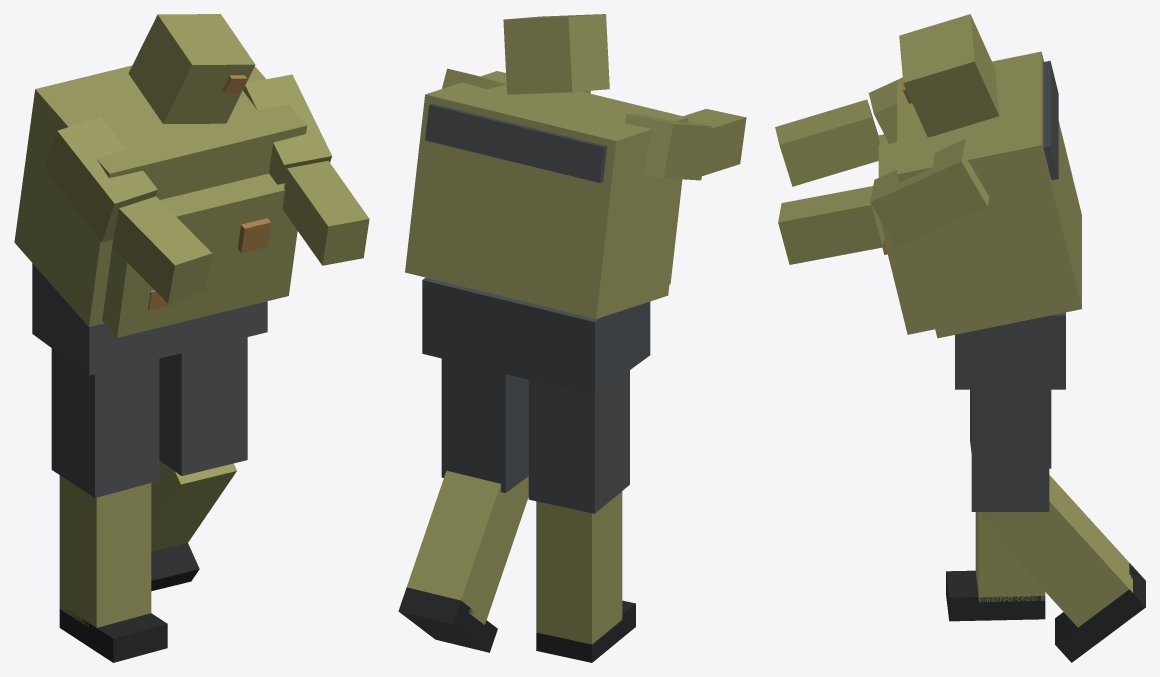
The model's file is zombie_bloater.glb.
3 renders of one model, left to right at view 1: azimuth 30°, elevation 25°; view 2: azimuth 150°, elevation 25°; view 3: azimuth 270°, elevation 25°, orthographic. The views are drawn at different scales.
Parts seen in each view (by area): view 1: zombie_bloater; view 2: zombie_bloater; view 3: zombie_bloater.
Part boxes in pixels (<box>): zombie_bloater: <box>14,14,369,662</box>; zombie_bloater: <box>398,14,746,662</box>; zombie_bloater: <box>775,14,1145,662</box>.
Size of the model in its own units: 0.7163 by 1.81 by 1.
